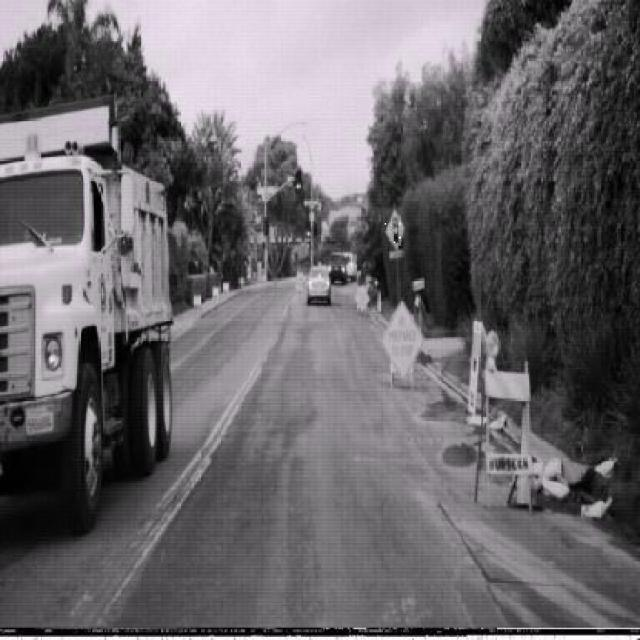signalAhead: (385, 208, 406, 250)
